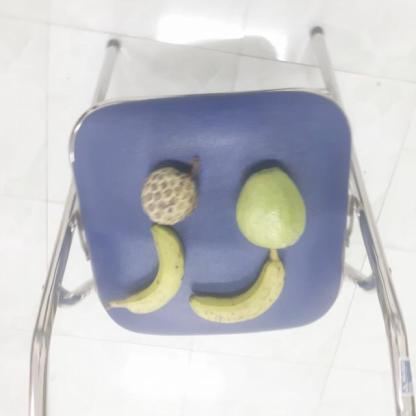annona: (142, 166, 202, 225)
banana: (191, 252, 289, 323), (119, 228, 190, 314)
guava: (235, 168, 310, 250)
